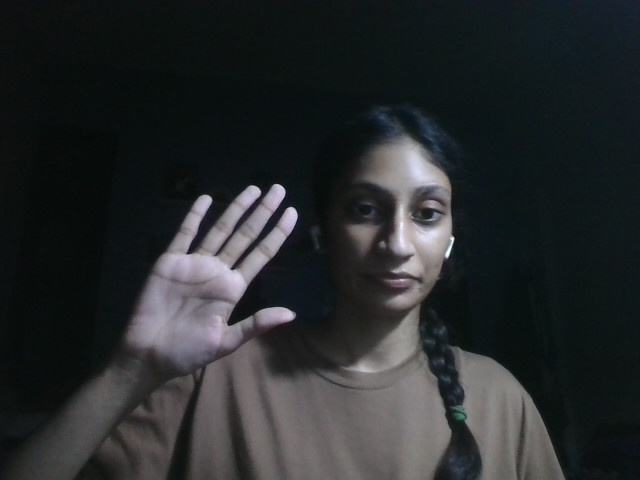hello: (129, 181, 305, 368)
